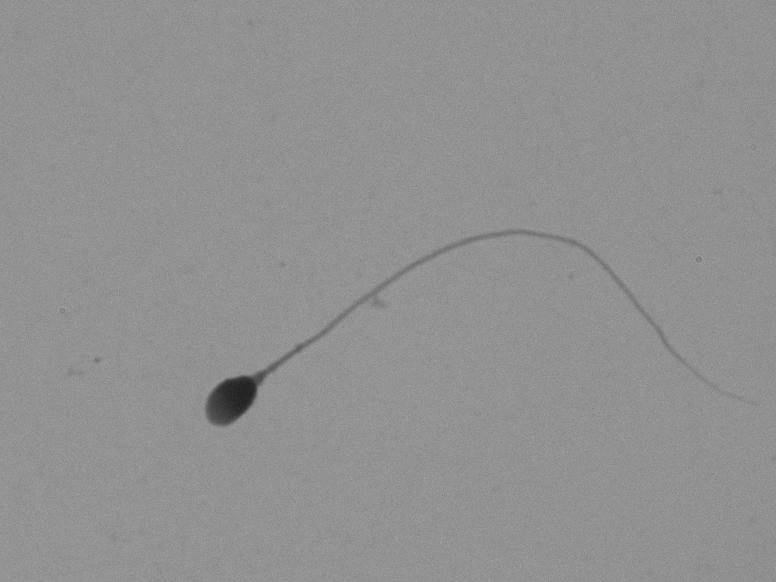Normal: (162, 186, 746, 481)
